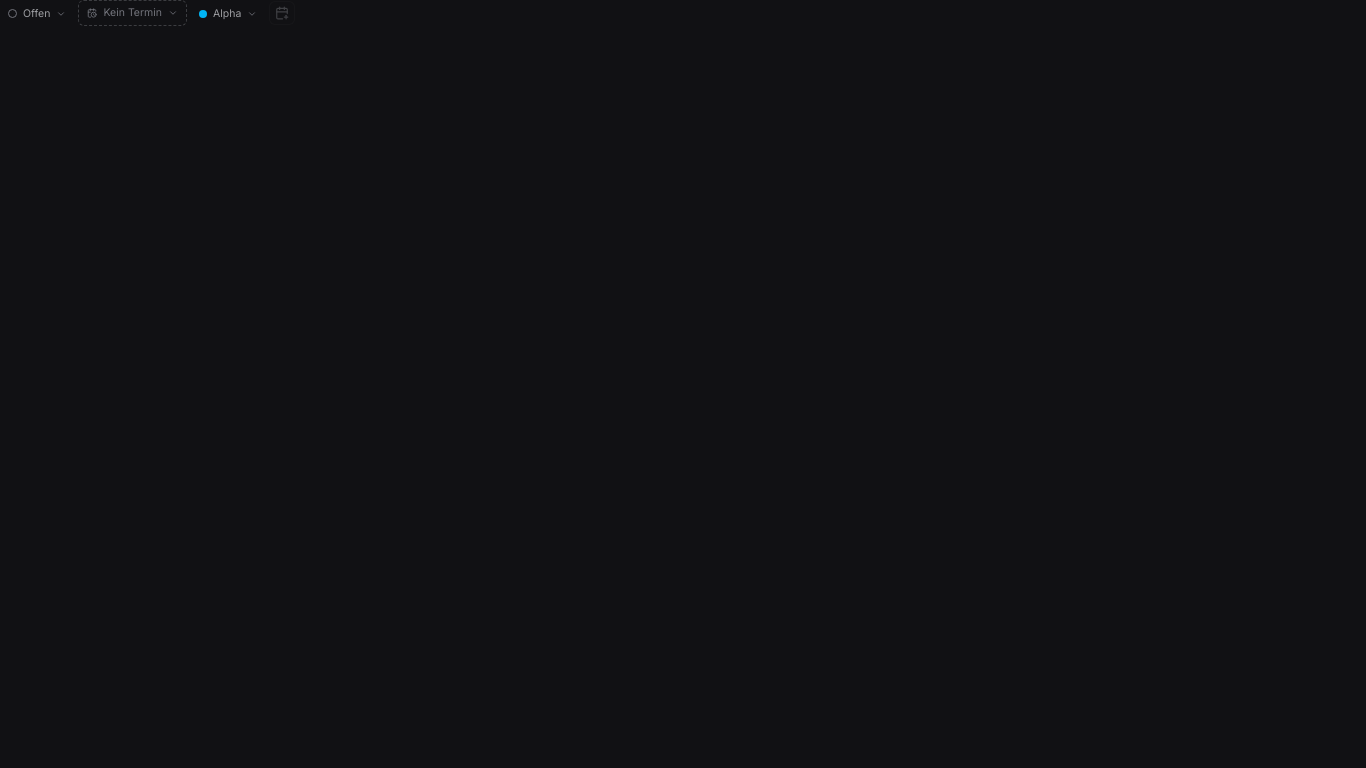
it: TaskMetaChips — task without Termin › opens the slot popover with empty date/time inputs when no Termin is set
Click the button "Kein Termin" at (133, 13), box [78, 0, 187, 26]
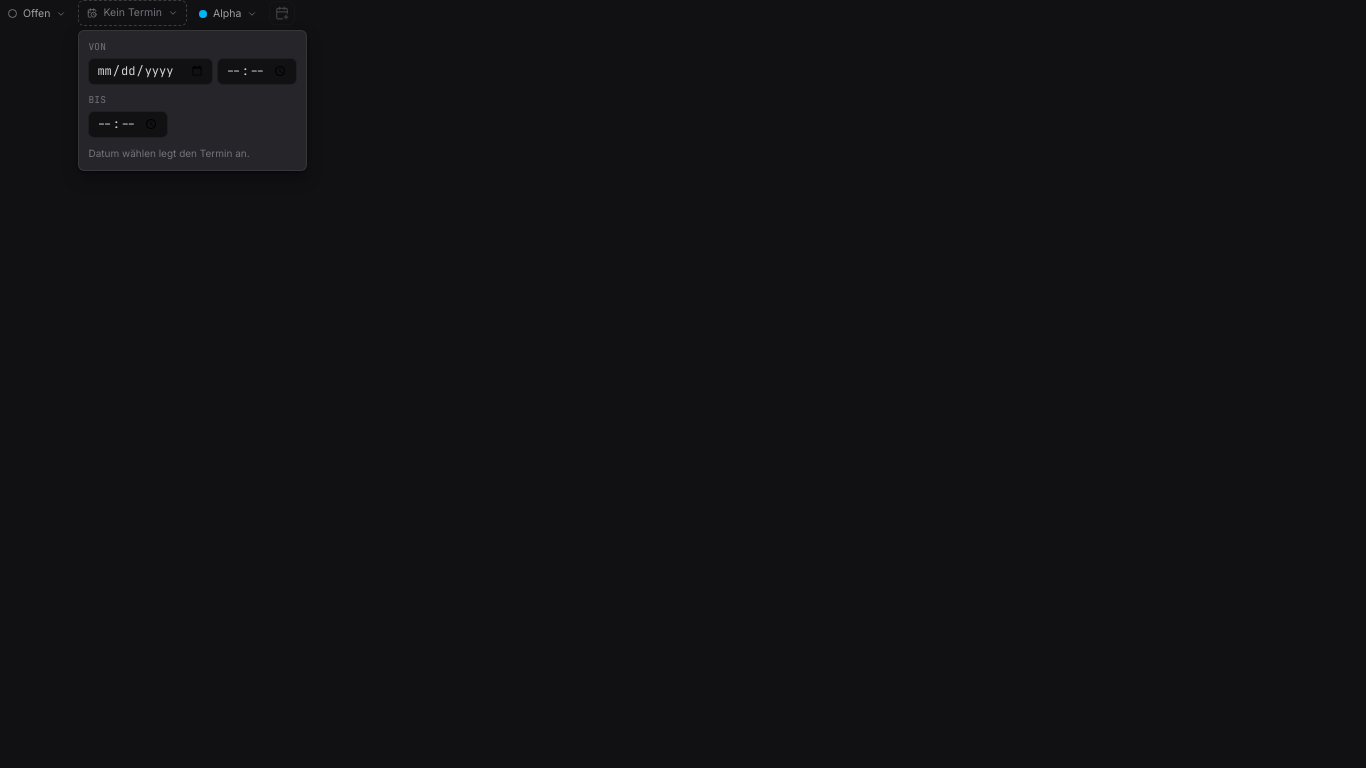
expect the date field is empty: met, box [88, 58, 213, 85]
expect the number of time fields is 2: met, box [217, 58, 297, 85]; [88, 111, 168, 138]
expect the time field below "Von" is empty: met, box [217, 58, 297, 85]
